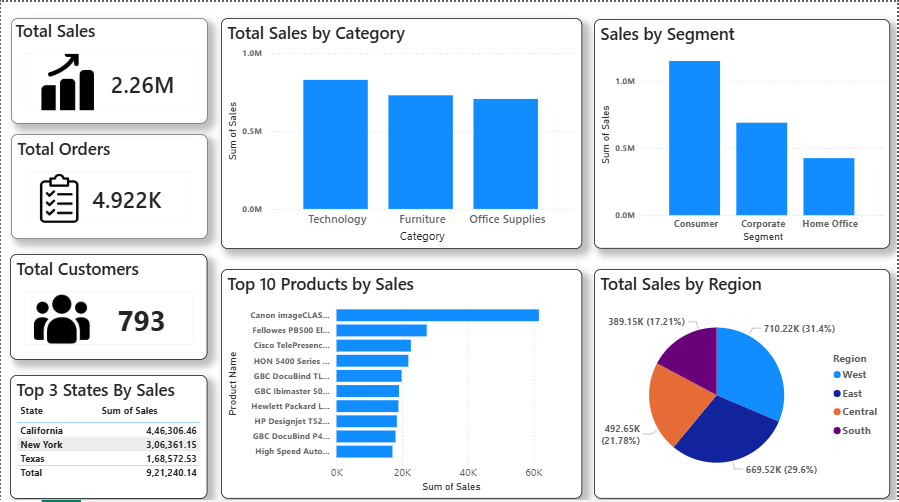

Layout of this report page (visuals, bound fields, positions):
{"tool":"powerbi","page":{"name":"Page 1","canvas":[1280,720],"ordinal":0},"visuals":[{"type":"cardVisual","title":"Total Orders","fields":{"Data":["Count(train.Order ID)"]},"box":[14.4,188.6,280.8,149.8],"z":0},{"type":"cardVisual","title":"Total Sales","fields":{"Data":["Sum(train.Sales)"]},"box":[14.4,23,280.8,151.2],"z":1000},{"type":"cardVisual","title":"Total Customers","fields":{"Data":["Count(train.Customer ID)"]},"box":[13,360,282.2,151.2],"z":2000},{"type":"clusteredColumnChart","title":"Total Sales by Category","fields":{"Category":["train.Category"],"Y":["Sum(train.Sales)"]},"box":[313.9,23,515.5,329.8],"z":3000},{"type":"clusteredBarChart","title":"Top 10 Products by Sales","fields":{"Y":["Sum(train.Sales)"],"Category":["train.Product Name"]},"box":[313.9,381.6,515.5,328.3],"z":4000},{"type":"clusteredColumnChart","title":"Sales by Segment","fields":{"Category":["train.Segment"],"Y":["Sum(train.Sales)"]},"box":[846.7,24.5,423.4,328.3],"z":5000},{"type":"pieChart","title":"Total Sales by Region","fields":{"Category":["train.Region"],"Y":["Sum(train.Sales)"]},"box":[846.7,381.6,423.4,328.3],"z":6000},{"type":"tableEx","title":"Top 3 States By Sales","fields":{"Values":["train.State","Sum(train.Sales)"]},"box":[13,532.8,282.2,177.1],"z":7000}]}

Visuals, with their boxes in screenshot pixels (x1, y1, x2, y2), scaled from the page's 1280x720 canvas onto the 899x502 screenshot:
"Total Orders" cardVisual: l=10, t=131, r=207, b=236
"Total Sales" cardVisual: l=10, t=16, r=207, b=121
"Total Customers" cardVisual: l=9, t=251, r=207, b=356
"Total Sales by Category" clusteredColumnChart: l=220, t=16, r=583, b=246
"Top 10 Products by Sales" clusteredBarChart: l=220, t=266, r=583, b=495
"Sales by Segment" clusteredColumnChart: l=595, t=17, r=892, b=246
"Total Sales by Region" pieChart: l=595, t=266, r=892, b=495
"Top 3 States By Sales" tableEx: l=9, t=371, r=207, b=495
